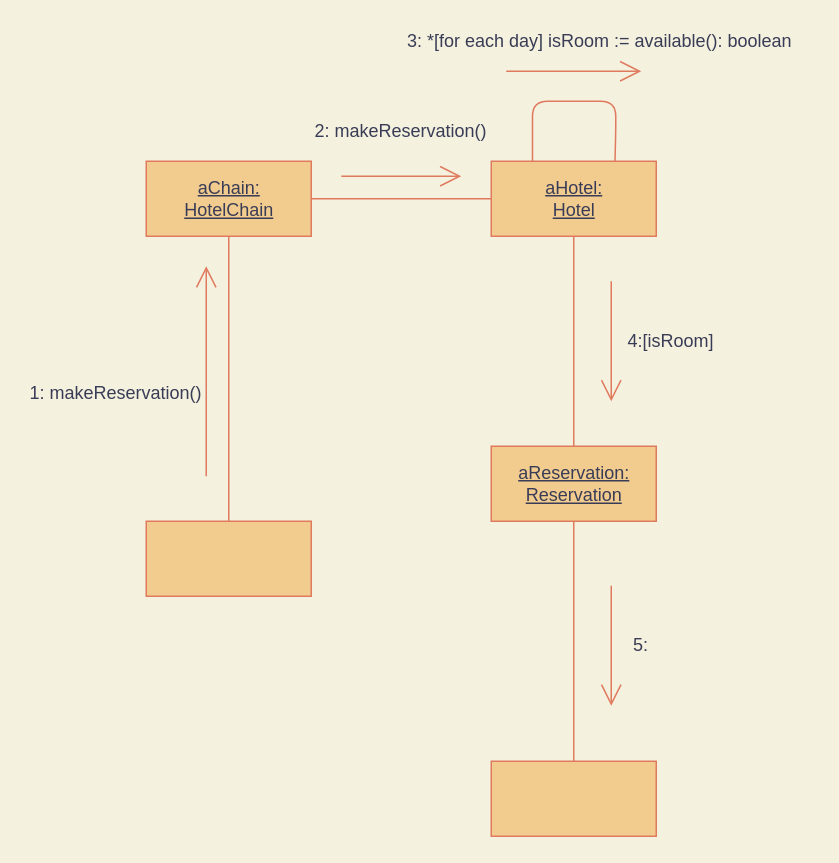
The diagram is 839 pixels wide and 863 high, and some of its shapes have lost their labels. Each missing label, with the centre of its shape:
"aNotice: Confirmation" belongs at (573,798).
"Window: UserInterface" belongs at (228,558).
